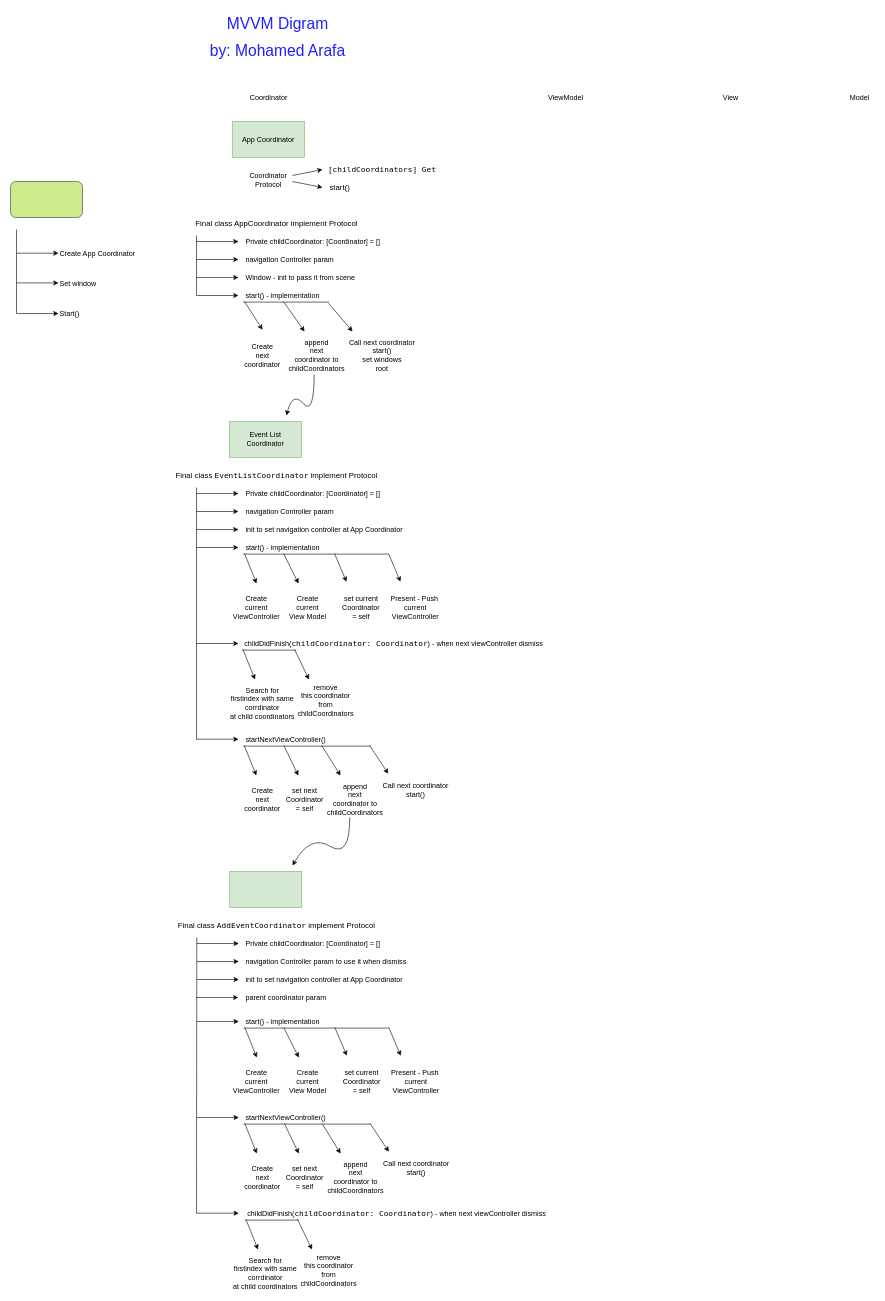
The diagram is 885 pixels wide and 1301 high, and some of its shapes have lost their labels. Each missing label, with the centre of its shape:
Add Event Coordinator: the point at 265,889
Scene Delegate: the point at 46,199
